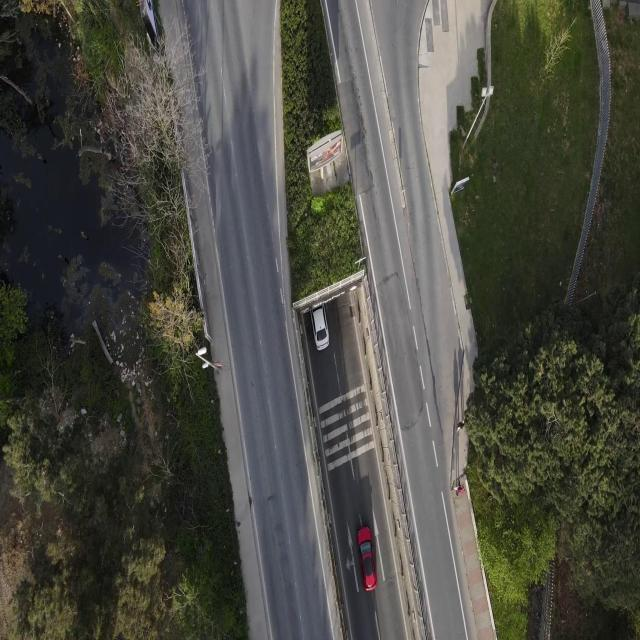p3rson: (455, 418, 466, 436), (454, 484, 465, 498)
